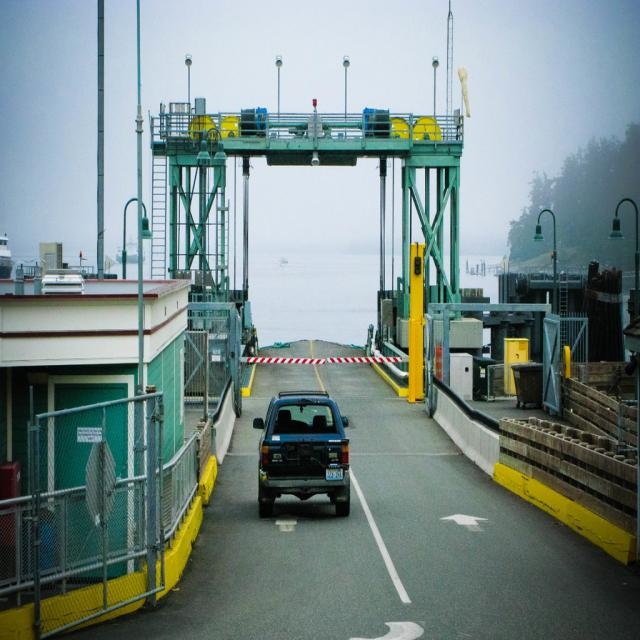car: (249, 390, 354, 523)
